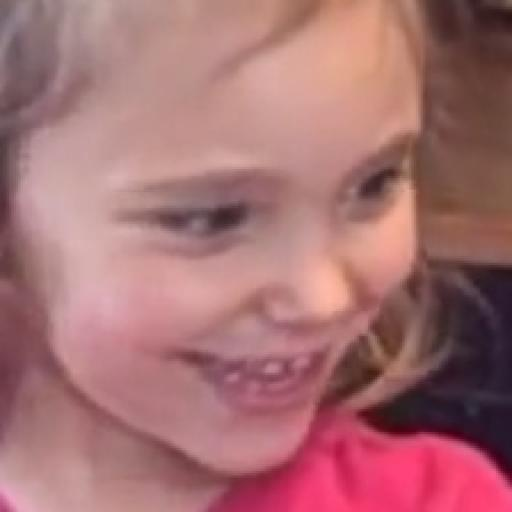Autism: (13, 9, 493, 495)
